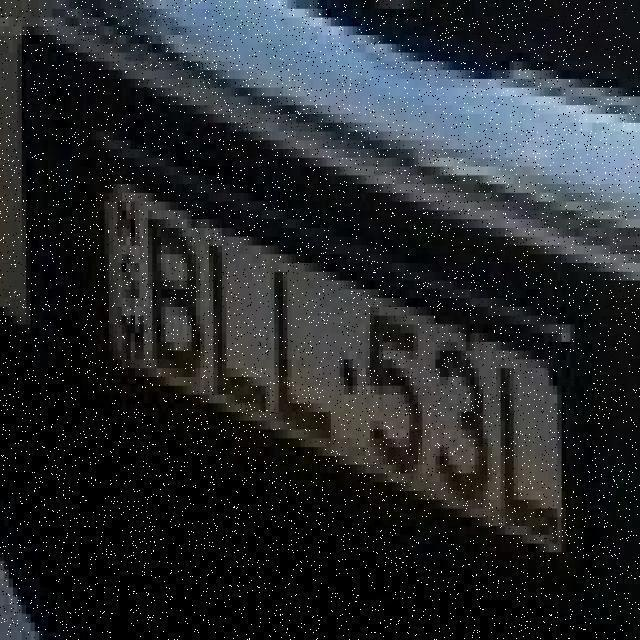License Plate: (85, 134, 585, 578)
